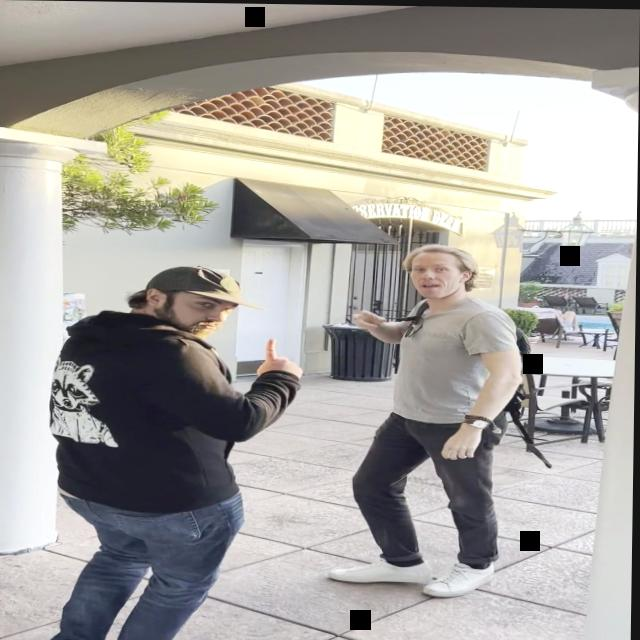NO-Mask: (173, 289, 239, 335), (413, 252, 461, 299)
